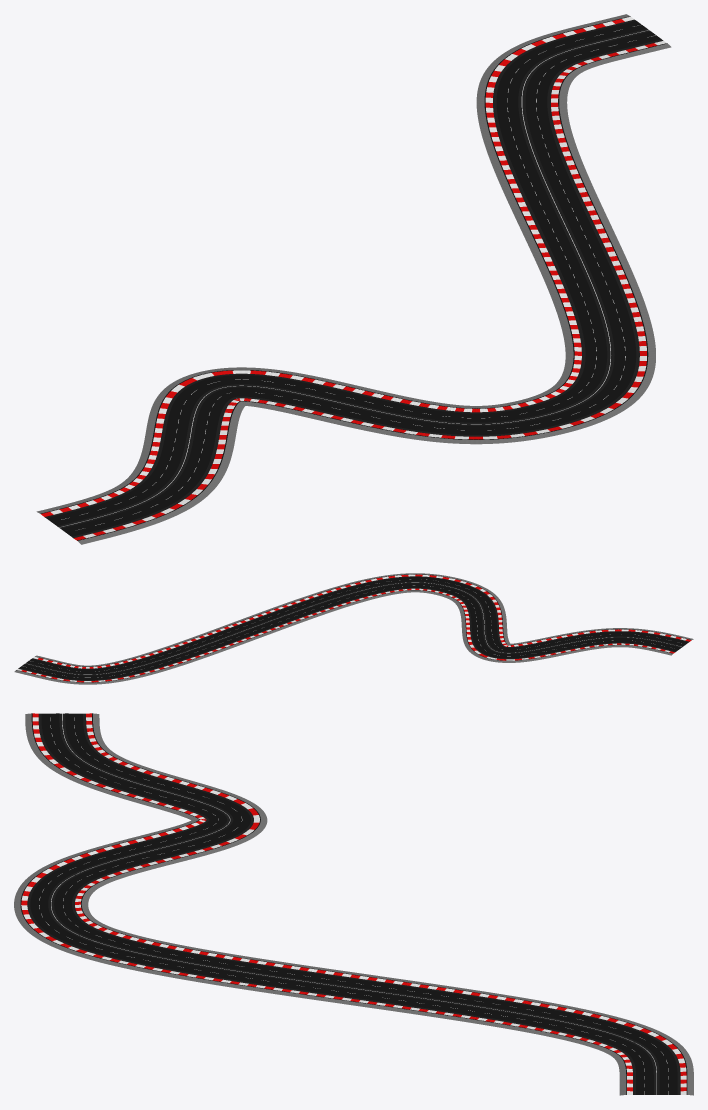
The model's file is S0.3c3-Wee2.glb.
The picture shows the model from 3 angles, top to bottom: view 1: azimuth 30°, elevation 25°; view 2: azimuth 150°, elevation 25°; view 3: azimuth 270°, elevation 25°; orthographic projection. The views are drawn at different scales.
Parts seen in each view (by area): view 1: Grid; view 2: Grid; view 3: Grid.
Boxes of the visible parts, box(x1,y1,x2,y2) form: Grid: box(36, 14, 671, 544); Grid: box(14, 573, 693, 684); Grid: box(14, 713, 693, 1095).
Bounding box in the file's own units: 304 × 0.3101 × 229.
